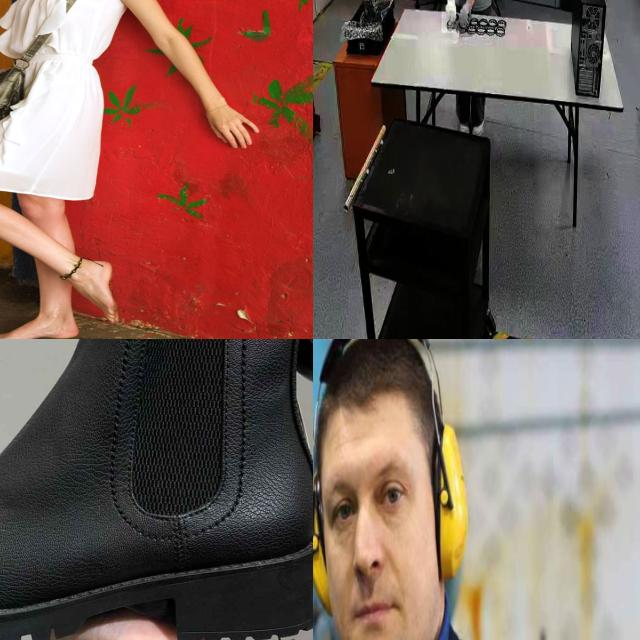Barefoots: (88, 260, 119, 324), (0, 318, 78, 339)
Ear-protection: (313, 339, 467, 640)
No_Glasses: (324, 438, 422, 548)
Sandals: (0, 339, 313, 640)
hand_glove: (459, 0, 473, 38), (441, 0, 456, 33)
person: (313, 339, 618, 640)
